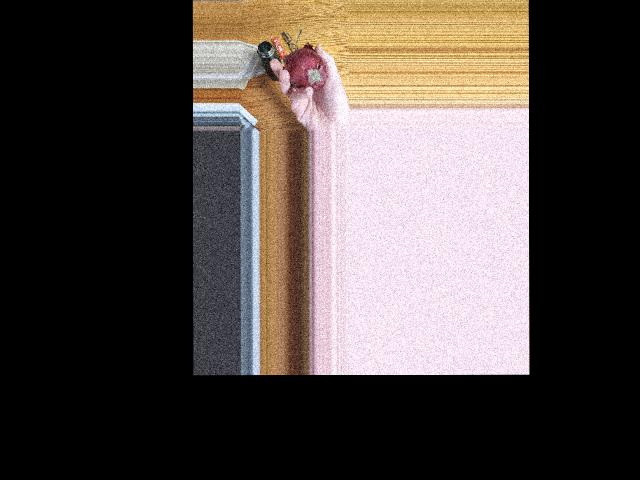onion: (286, 48, 325, 85)
